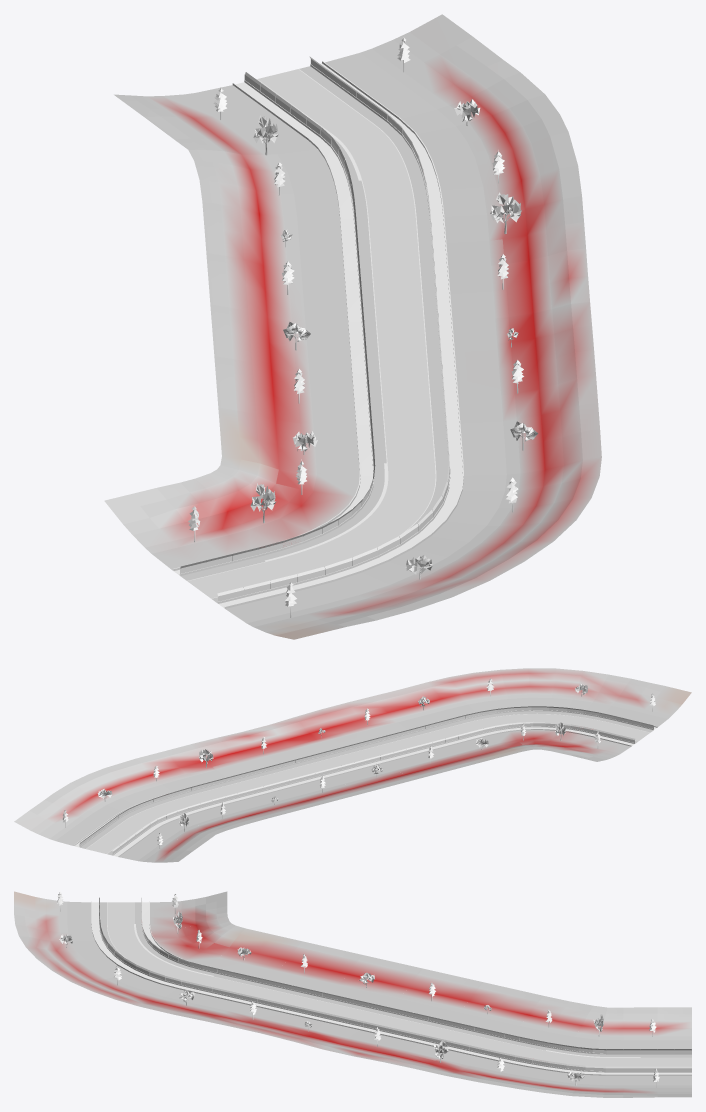
3 renders of one model, top to bottom at view 1: azimuth 30°, elevation 25°; view 2: azimuth 150°, elevation 25°; view 3: azimuth 270°, elevation 25°, orthographic. The views are drawn at different scales.
Visible parts, largest first — view 1: Grass, Road, Track, Wirefence, Trees; view 2: Grass, Road, Wirefence, Track, Trees; view 3: Grass, Road, Track, Wirefence, Trees.
Part boxes in pixels (x1,y1,x2,y2): Grass: (104,14,601,639); Road: (187,69,435,598); Track: (173,56,463,608); Wirefence: (180,57,449,601); Trees: (188,37,537,617); Grass: (14,668,691,862); Road: (86,714,649,853); Wirefence: (80,706,653,853); Track: (73,706,657,856); Trees: (62,678,655,848); Grass: (14,891,691,1097); Road: (107,902,691,1066); Track: (91,901,691,1075); Wirefence: (99,897,691,1071); Trees: (57,891,659,1087).
Size of what is drawn, in the model's own units: 32000 by 1722 by 44500.
